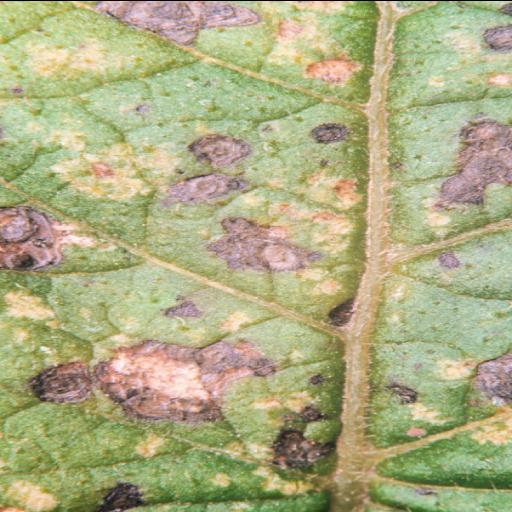Early Blight: (2, 0, 511, 512)
